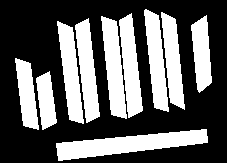parkingspot: (56, 129, 207, 160), (57, 21, 83, 123), (101, 16, 126, 118), (75, 18, 99, 122), (144, 9, 168, 111), (119, 13, 142, 117), (161, 12, 184, 109), (15, 58, 38, 129), (191, 15, 211, 92), (36, 71, 56, 129)
